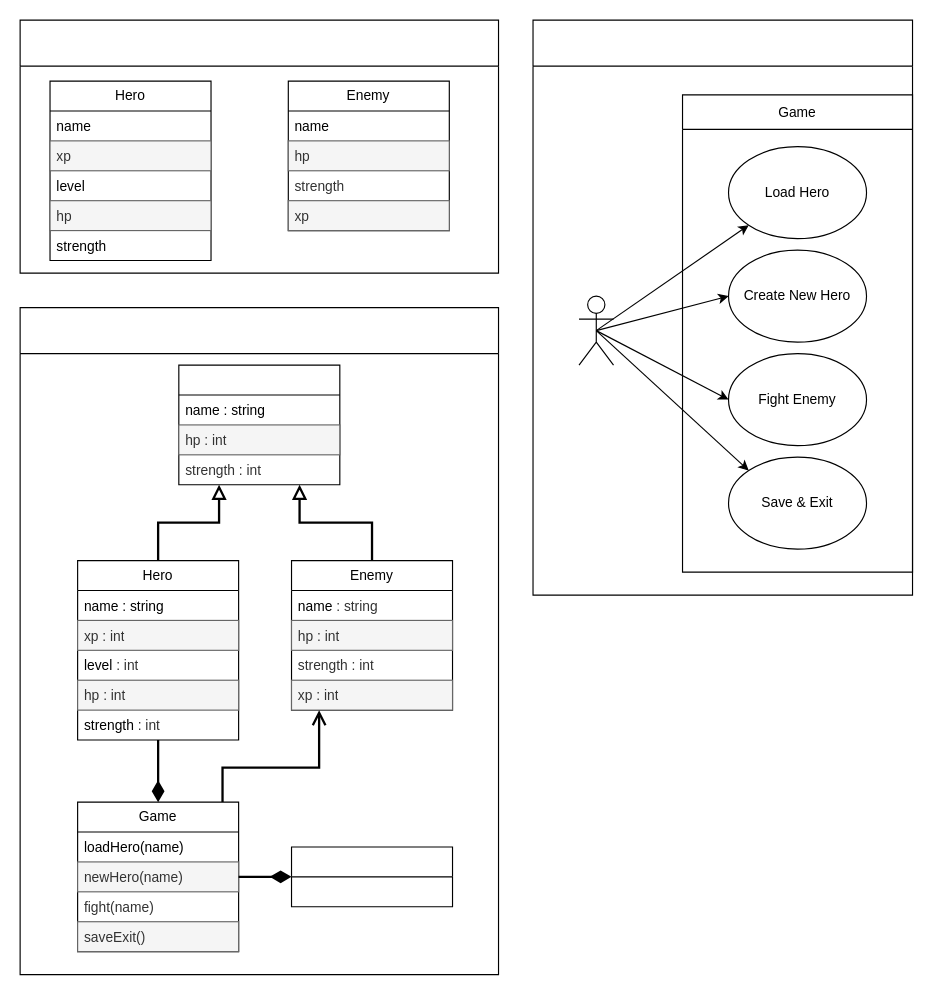
This 933x995 diagram has some shape labels left out. The shapes that lost their labels are listed below. From the top down, each one's box as (x1, y1, x2, y2) in pixels, then its label:
(19, 19, 499, 273): Entity Relationship of Database
(532, 19, 913, 595): Use Case
(578, 295, 614, 365): Player
(178, 364, 340, 485): Character
(19, 306, 499, 975): Class Daigram
(290, 846, 453, 907): main
